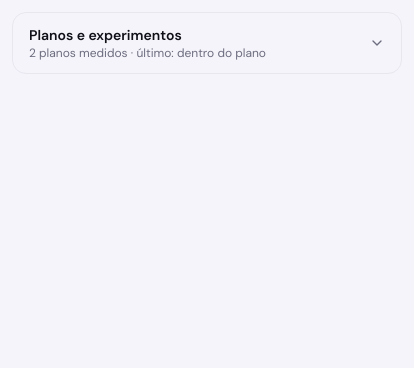
Test case: exibição do experimento de fim de semana (caso real de 10/11) › o histórico lista só os resultados ANTERIORES, com a categoria
This screenshot has width=414, height=368.
Step 1. Click the button "Planos e experimentos" → x=207, y=43, box [13,13,401,73]
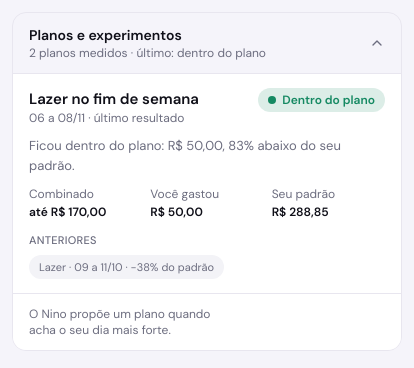
Expected: the number of list items is 1, [29,254,224,279]
Expected: the list item reads "Lazer · 09 a 11/10 · −38% do padrão", [29,254,224,279]
